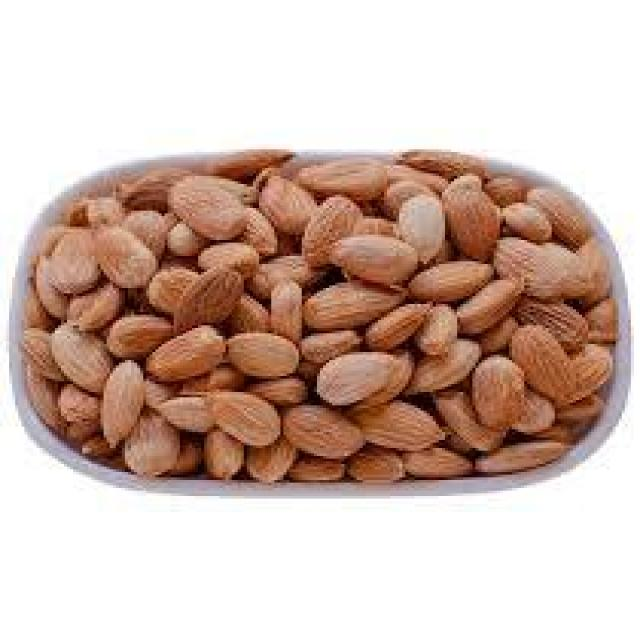cekirdek: (35, 138, 620, 566)
